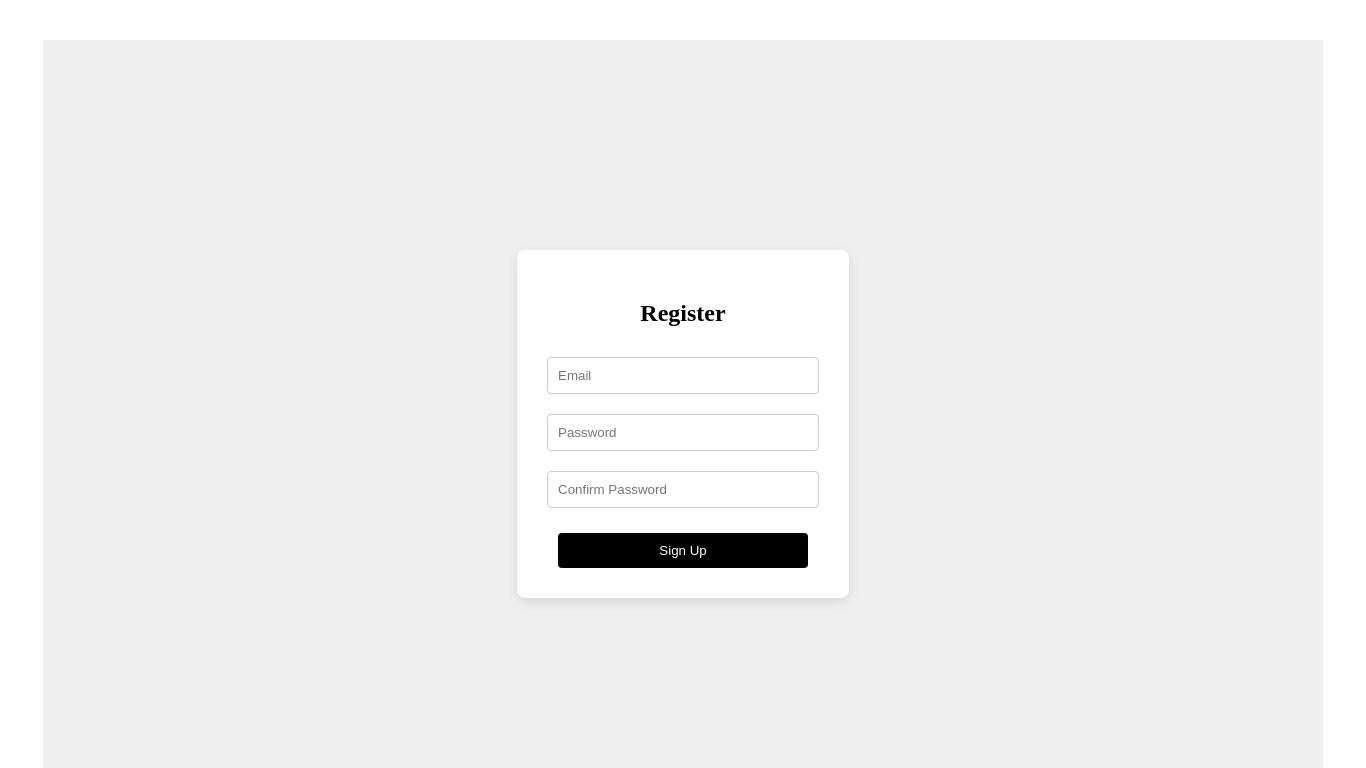
Register Component › displays success message after successful registration
The width and height of the screenshot is (1366, 768).
In the field with placeholder "Email": (683, 376) top-left (547, 357), bottom-right (819, 394), type "new@example.com"
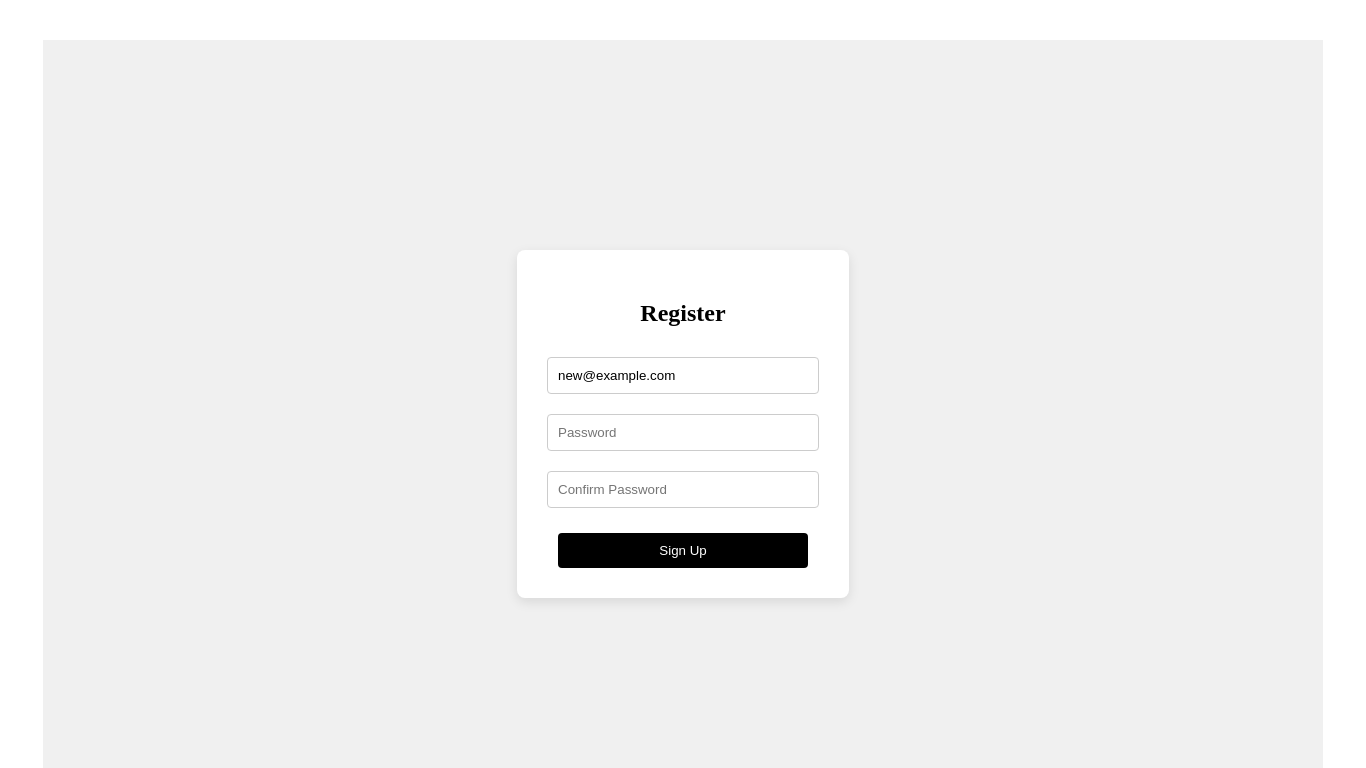
In the password field with placeholder "Password": (683, 432) top-left (547, 414), bottom-right (819, 451), type "password123"
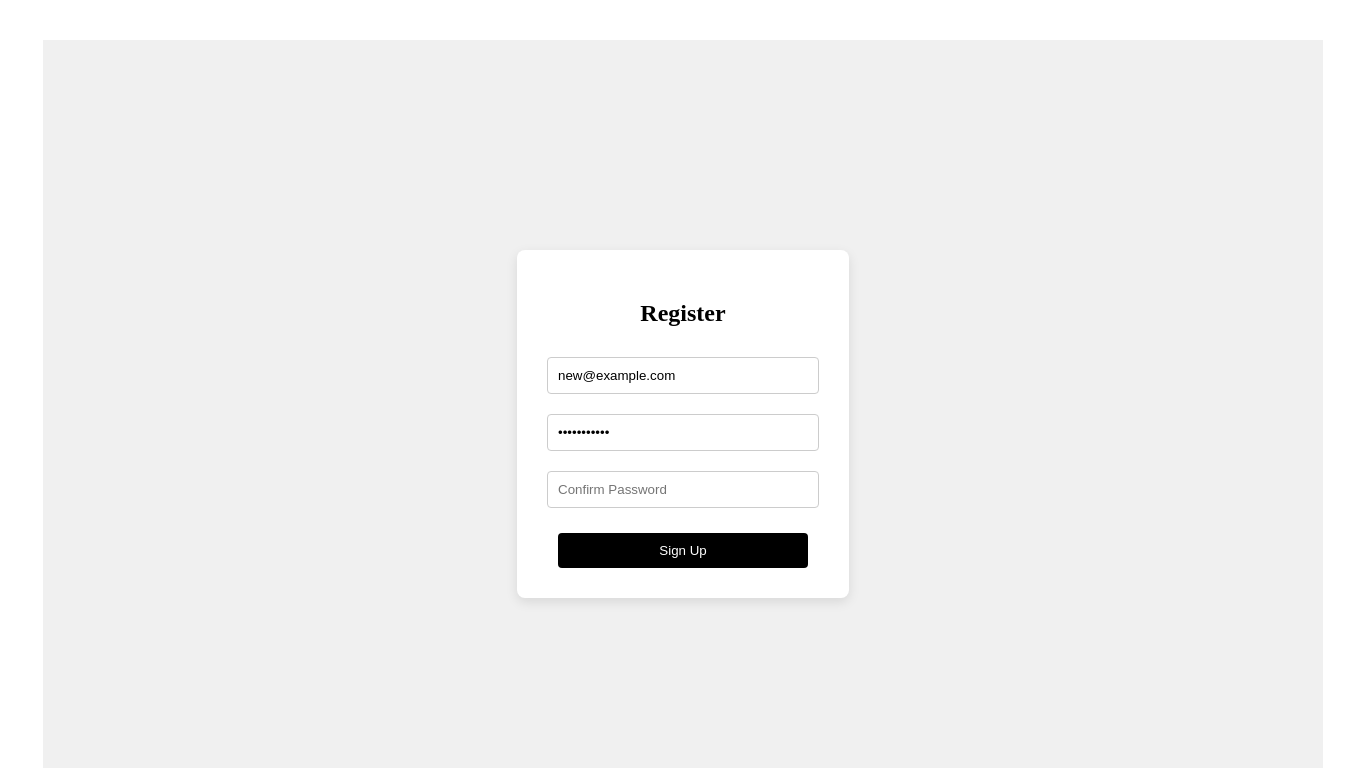
In the password field with placeholder "Confirm Password": (683, 490) top-left (547, 471), bottom-right (819, 508), type "password123"
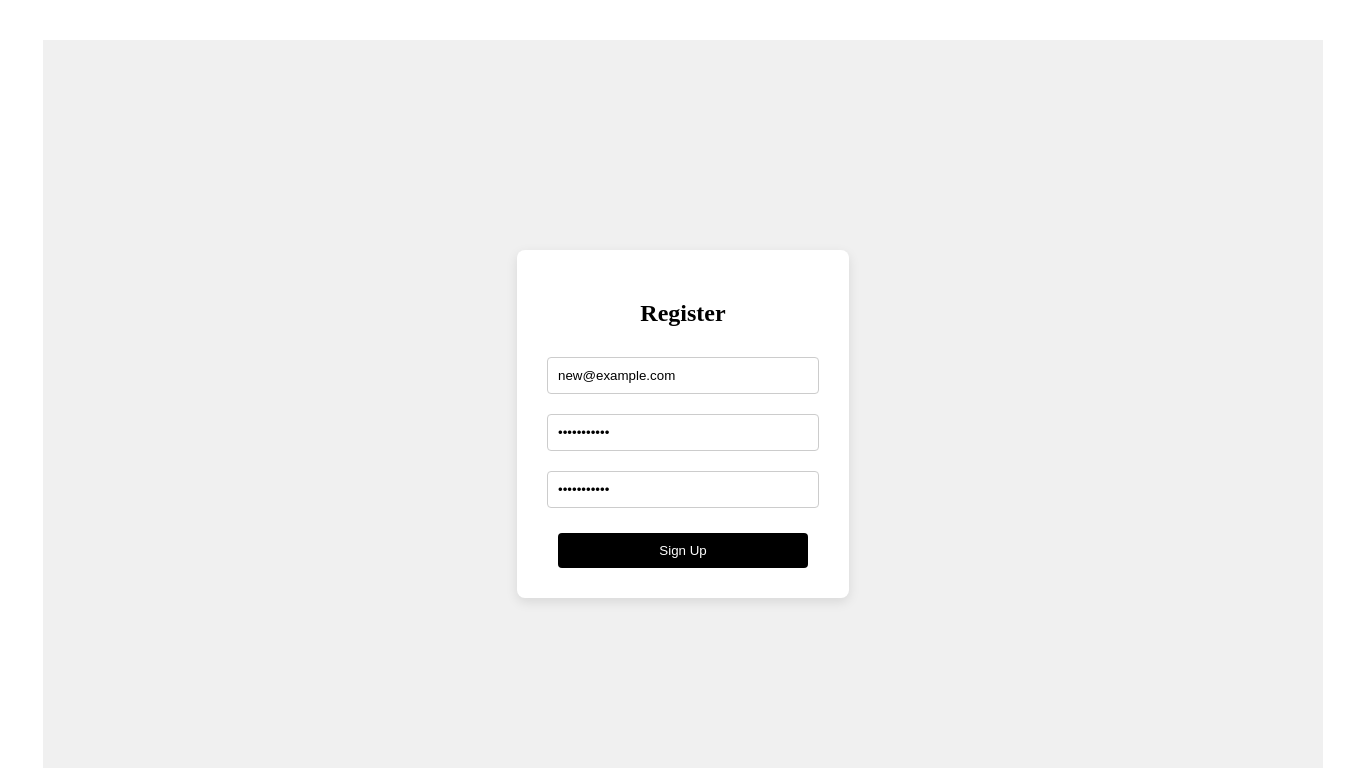
Click the button "Sign Up": (683, 550) top-left (558, 533), bottom-right (808, 568)
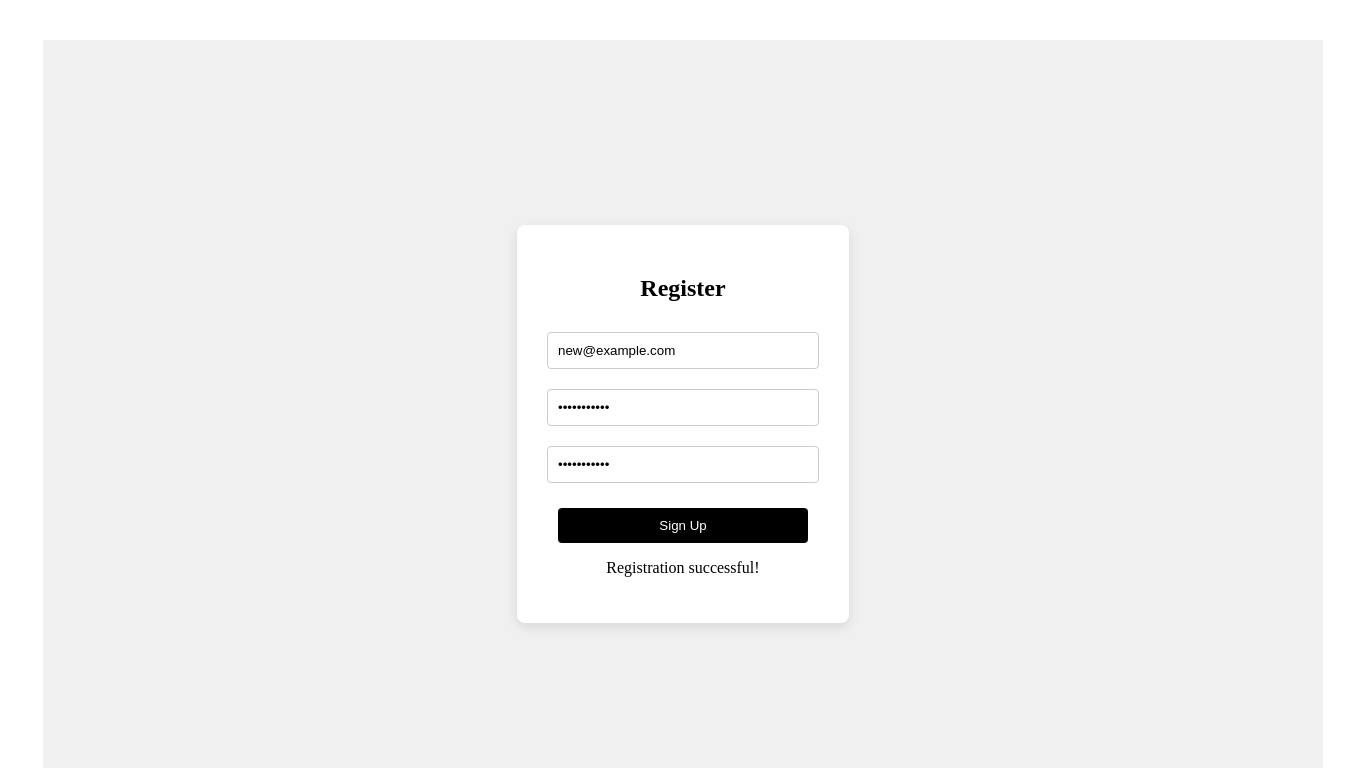
Result: the text "Registration successful!" is shown at top-left (606, 559), bottom-right (760, 577)
